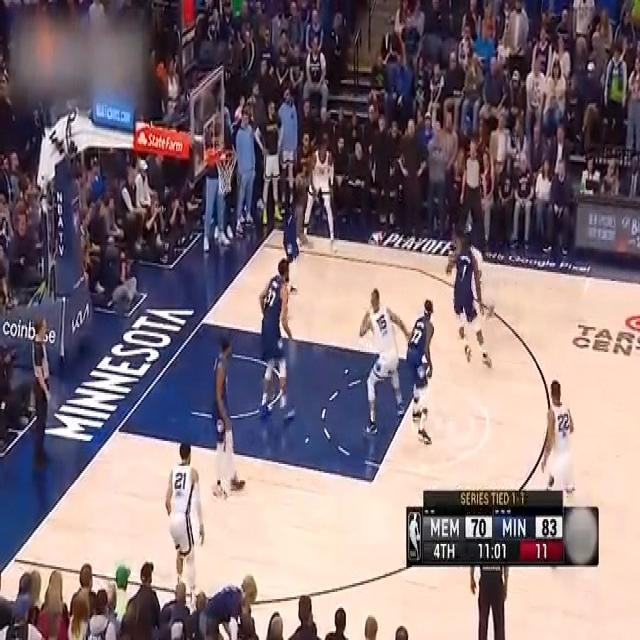hoop: (215, 143, 237, 196)
